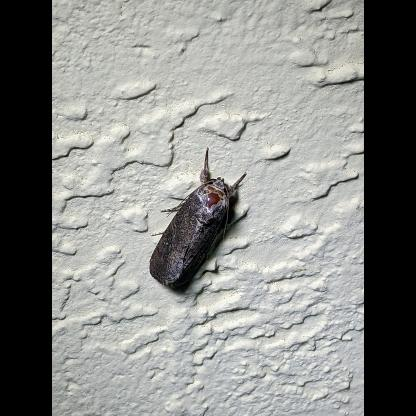Fall Armyworm Moth: (148, 146, 252, 296)
